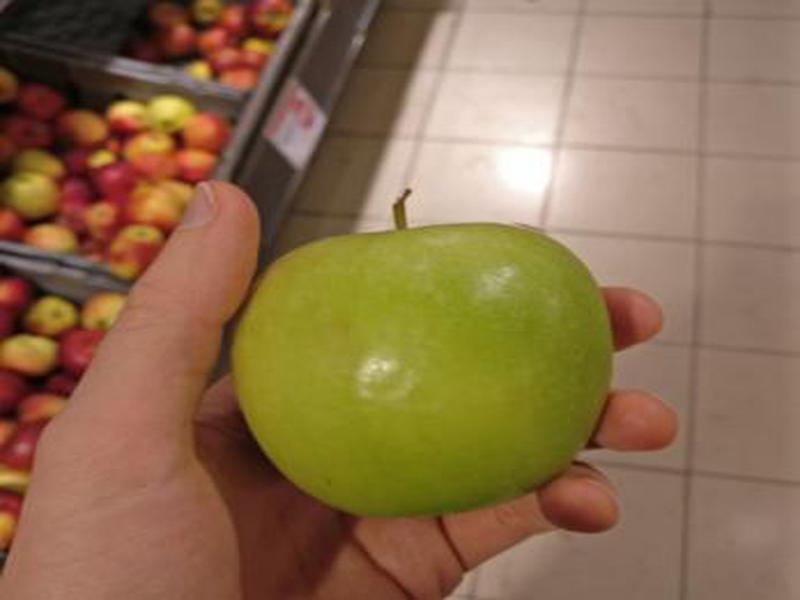green apple: (228, 221, 626, 520)
